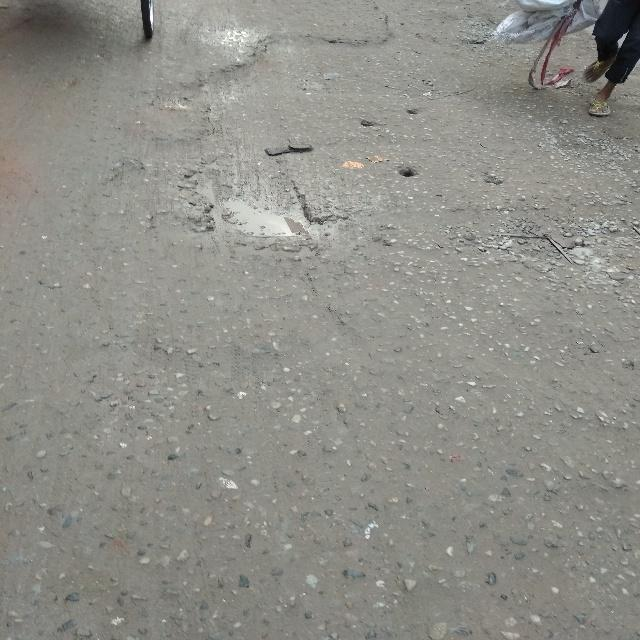Surface Erosion: (94, 22, 640, 402)
